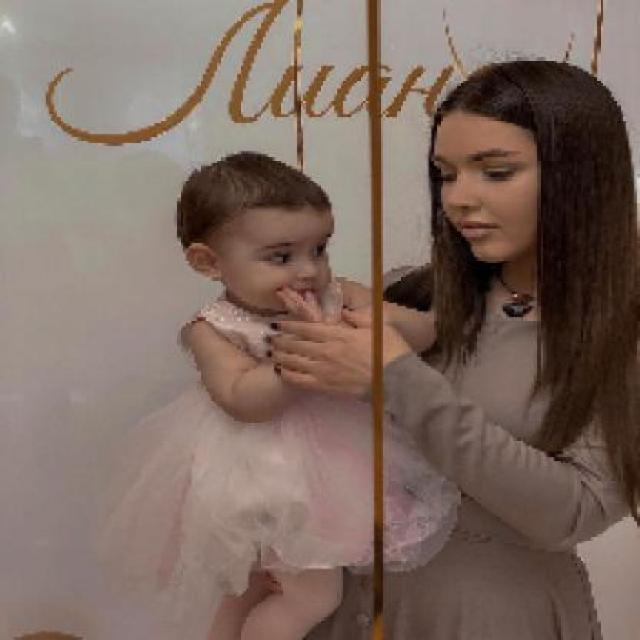child: (89, 145, 438, 638)
